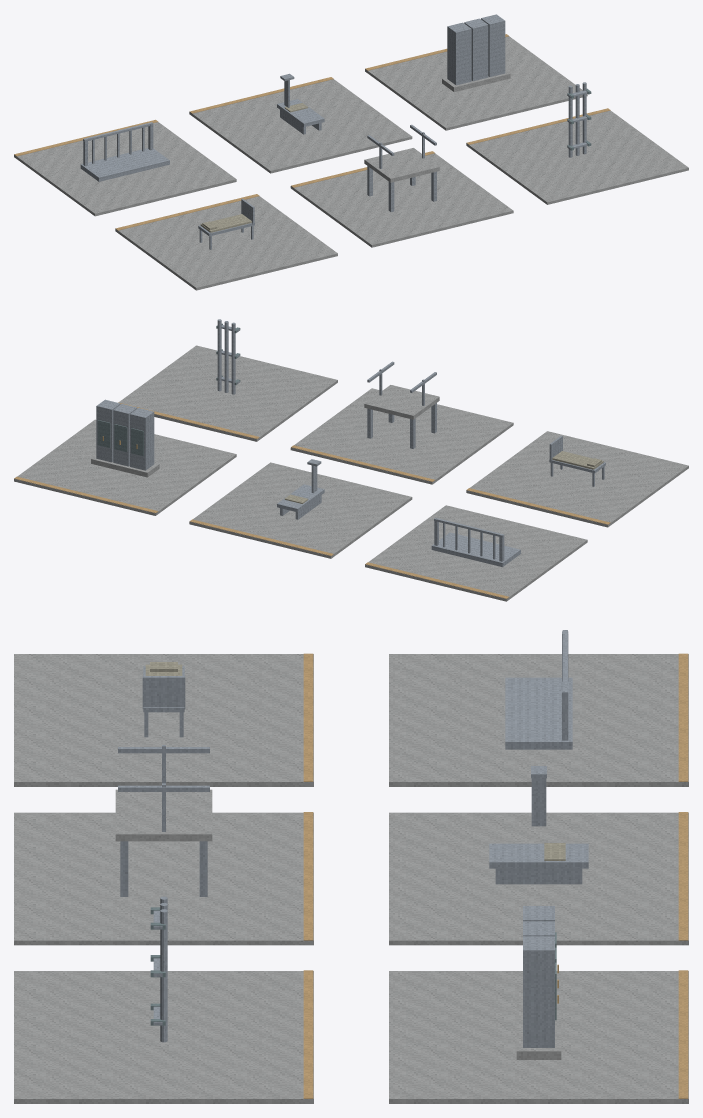
The model's file is level_blockout_kit_prison_p03.glb.
3 renders of one model, top to bottom at view 1: azimuth 30°, elevation 25°; view 2: azimuth 150°, elevation 25°; view 3: azimuth 270°, elevation 25°, orthographic. The views are drawn at different scales.
Visible parts, largest first — view 1: level_blockout_kit_prison_p03; view 2: level_blockout_kit_prison_p03; view 3: level_blockout_kit_prison_p03.
Boxes of the visible parts, box(x1,y1,x2,y2) form: level_blockout_kit_prison_p03: box(14, 14, 688, 290); level_blockout_kit_prison_p03: box(14, 319, 688, 601); level_blockout_kit_prison_p03: box(14, 630, 688, 1103).
Bounding box in the file's own units: 19.65 × 2.79 × 12.6.
Materials: 5 (5 with a texture image).
